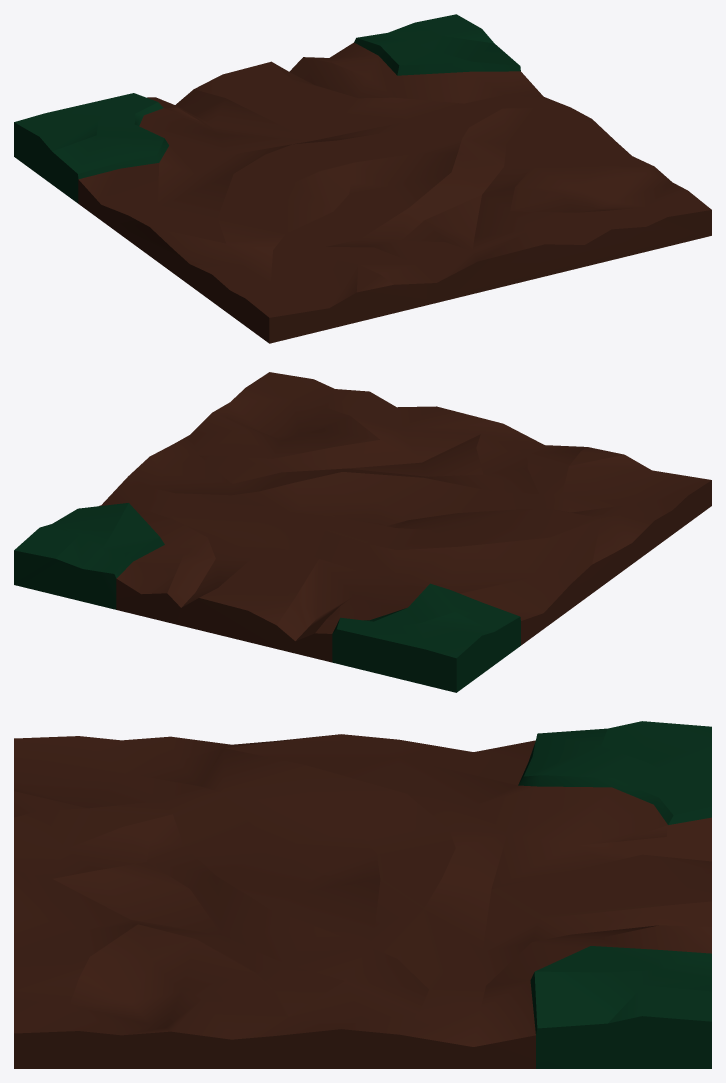
Rendered from Ground_Road_Entrance_U.fbx.
3 renders of one model, top to bottom at view 1: azimuth 30°, elevation 25°; view 2: azimuth 150°, elevation 25°; view 3: azimuth 270°, elevation 25°, orthographic. The views are drawn at different scales.
Visible parts, largest first — view 1: Ground_Road_Entrance_U; view 2: Ground_Road_Entrance_U; view 3: Ground_Road_Entrance_U.
Part boxes in pixels (x1,y1,x2,y2): Ground_Road_Entrance_U: (14,14,711,343); Ground_Road_Entrance_U: (14,372,711,692); Ground_Road_Entrance_U: (14,721,711,1068).
Size of the model in its own units: 147 by 14.83 by 147.
